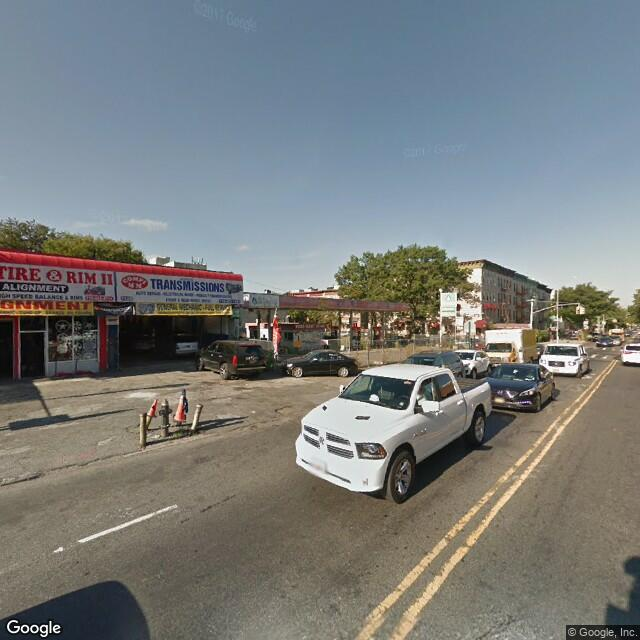litter: (167, 394, 198, 424), (142, 396, 159, 422)
